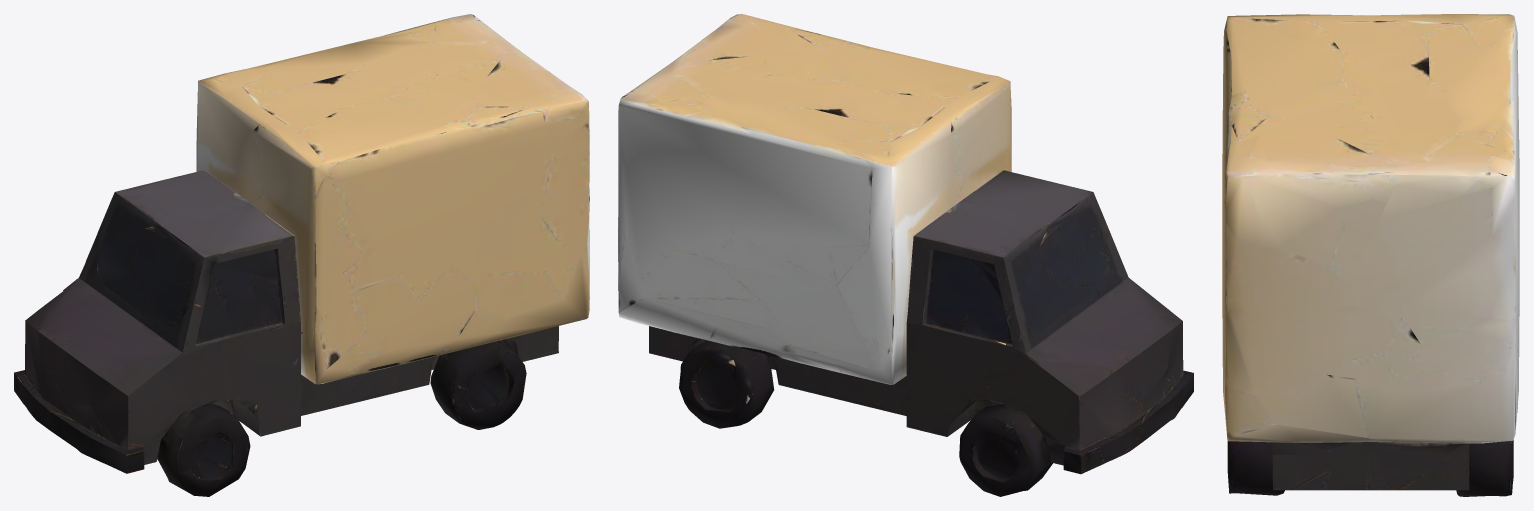
The model's file is camion.glb.
3 renders of one model, left to right at view 1: azimuth 30°, elevation 25°; view 2: azimuth 150°, elevation 25°; view 3: azimuth 270°, elevation 25°, orthographic. The views are drawn at different scales.
Size of the model in its own units: 1.9 by 1.19 by 0.8468.
Materials: 1 (1 with a texture image).
